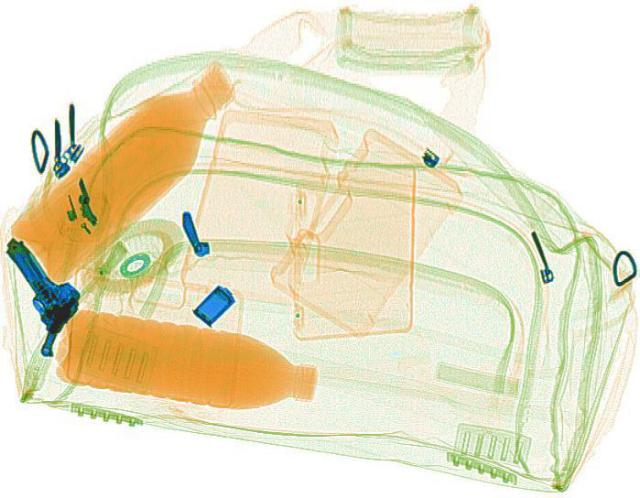Gun: (3, 229, 86, 357)
